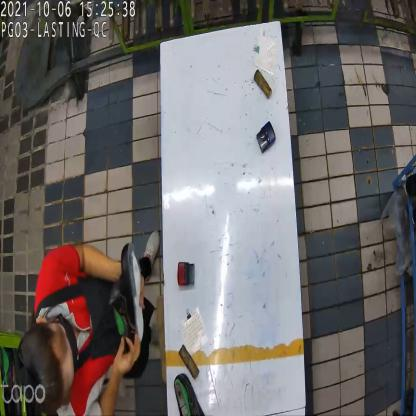shoes: (105, 242, 144, 348)
stamp: (255, 121, 275, 156), (177, 259, 195, 289)
